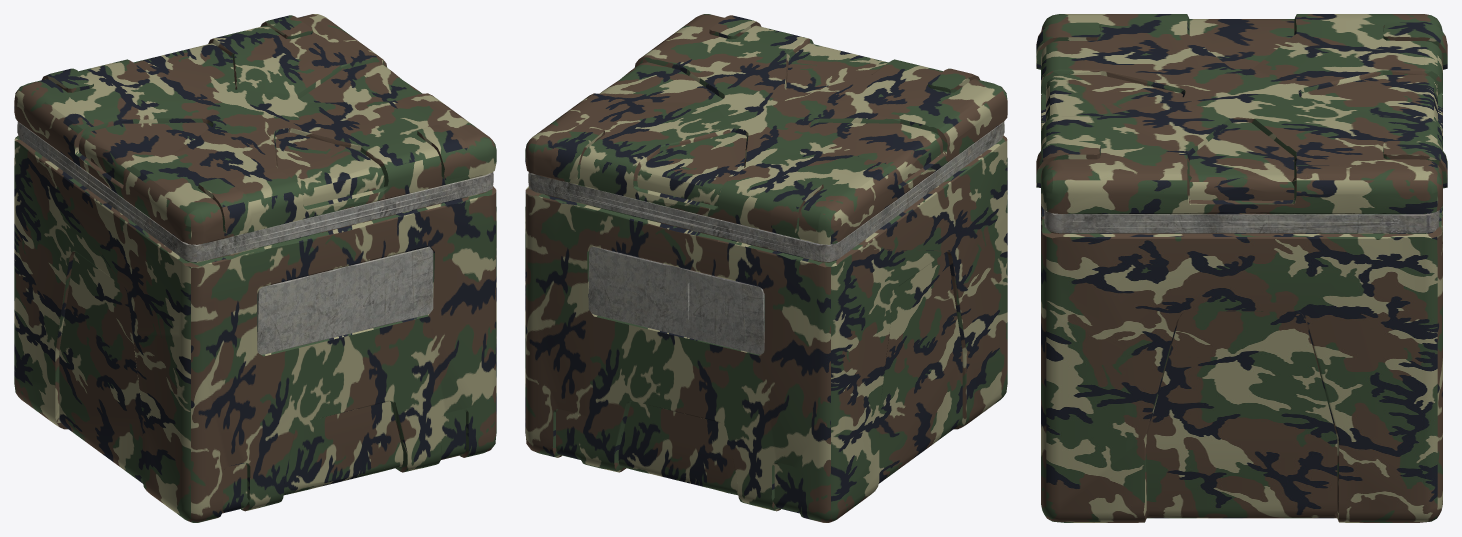
The model's file is box_large.FBX.
3 renders of one model, left to right at view 1: azimuth 30°, elevation 25°; view 2: azimuth 150°, elevation 25°; view 3: azimuth 270°, elevation 25°, orthographic. The views are drawn at different scales.
Visible parts, largest first — view 1: BoxC; view 2: BoxC; view 3: BoxC.
Boxes of the visible parts, x1=… form: BoxC: x1=14, y1=14, x2=496, y2=522; BoxC: x1=525, y1=14, x2=1007, y2=522; BoxC: x1=1036, y1=14, x2=1447, y2=522.
Size of the model in its own units: 1.06 by 1.03 by 1.08.
